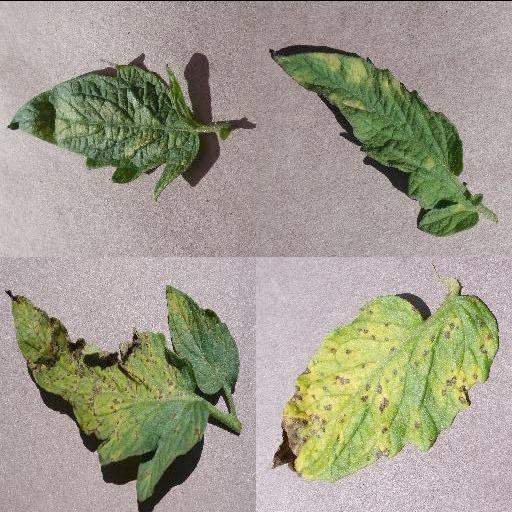Leaf Mold: (271, 50, 479, 236)
Septoria: (5, 283, 209, 501), (272, 292, 498, 478)
Spider Mites: (8, 61, 198, 201)
